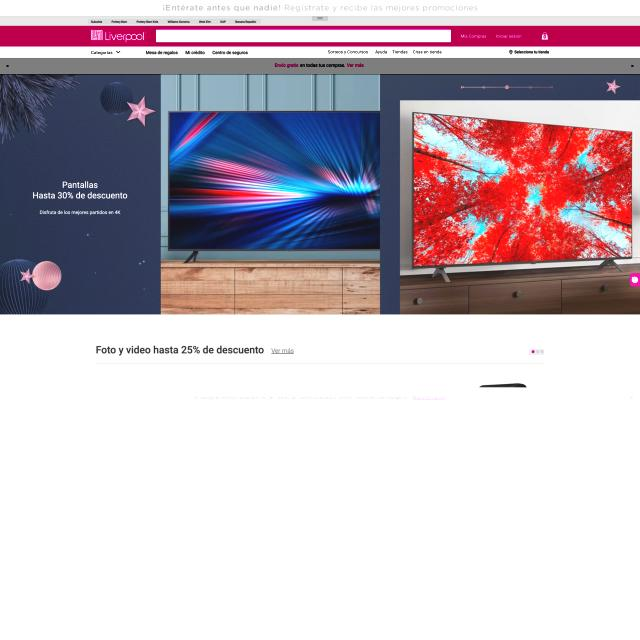CheckedTextView: (156, 29, 451, 42)
ProgressBar: (0, 0, 640, 16), (0, 58, 640, 74)
alert: (90, 49, 122, 56)
bag: (0, 16, 640, 75)
card: (0, 75, 640, 314)
carousel: (441, 32, 449, 40)
date picker: (90, 28, 147, 44)
decoration: (326, 48, 443, 56), (88, 19, 261, 24), (144, 48, 250, 56)
dropdown: (529, 349, 544, 355)
footer: (158, 34, 175, 40)
header: (0, 387, 640, 407)
